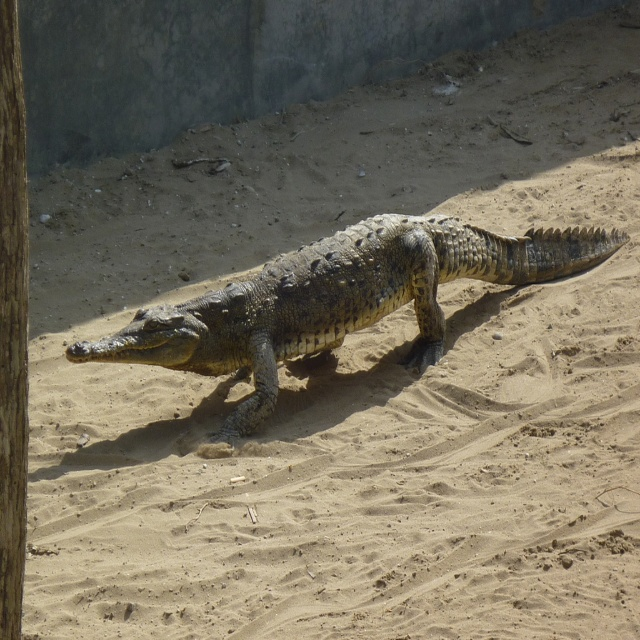Crocodile: (60, 210, 630, 449)
